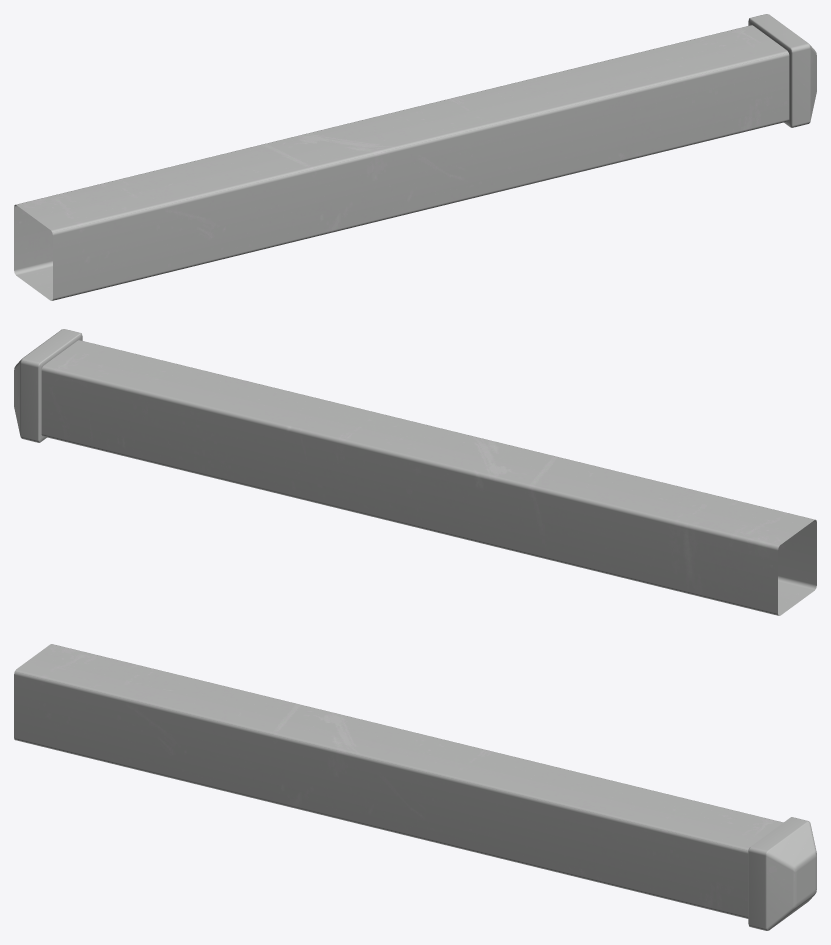
File: cP_Fence01_Post.dae
The picture shows the model from 3 angles, top to bottom: view 1: azimuth 30°, elevation 25°; view 2: azimuth 150°, elevation 25°; view 3: azimuth 330°, elevation 25°; orthographic projection.
Visible parts, largest first — view 1: cP_Fence01_Post.001; view 2: cP_Fence01_Post.001; view 3: cP_Fence01_Post.001.
Part boxes in pixels (x1=…): cP_Fence01_Post.001: x1=14, y1=14, x2=816, y2=300; cP_Fence01_Post.001: x1=14, y1=329, x2=816, y2=615; cP_Fence01_Post.001: x1=14, y1=644, x2=816, y2=930.
Bounding box in the file's own units: 1.81 × 0.1801 × 0.1801.
